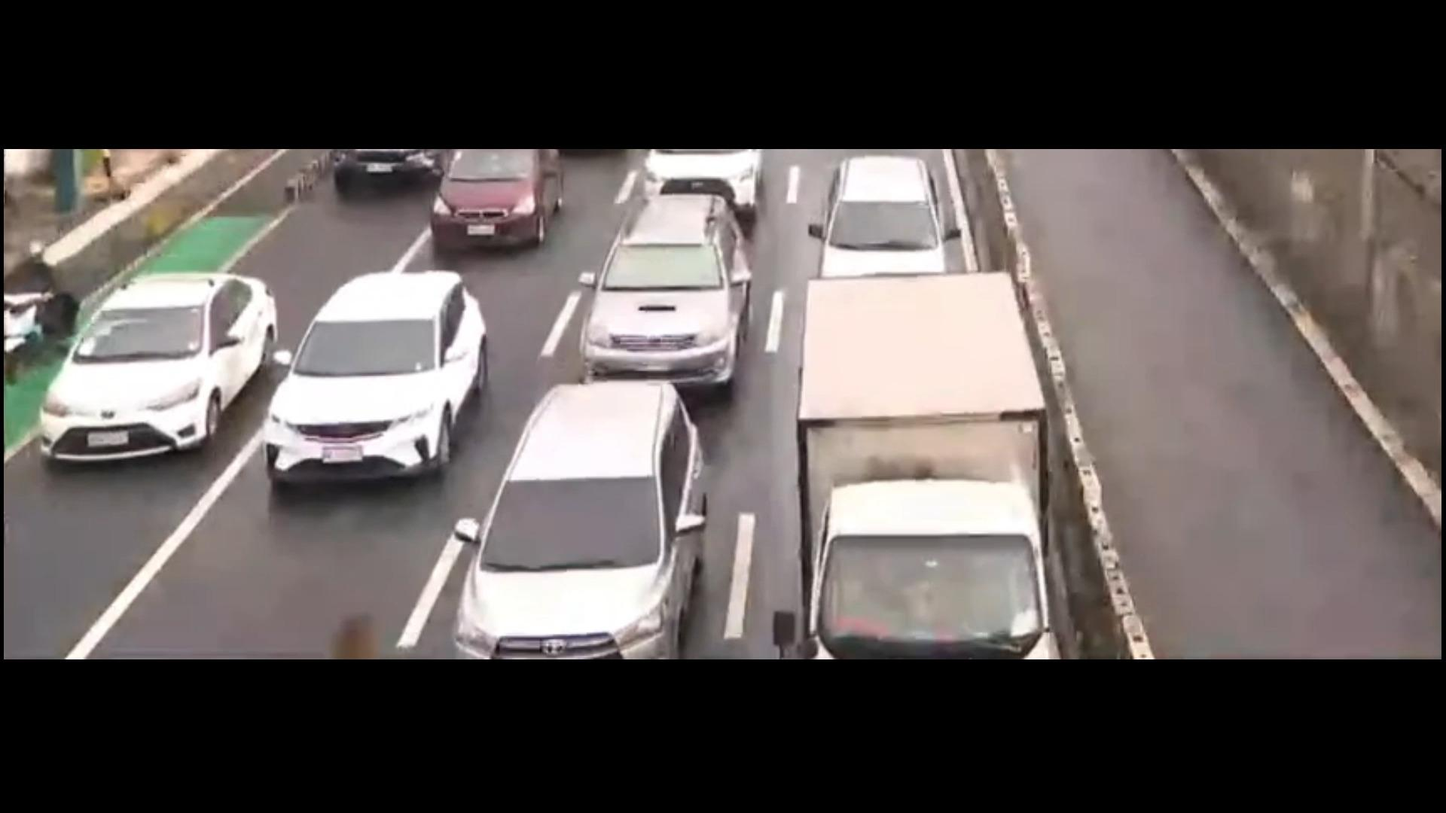Motorcycle: (0, 236, 83, 378)
SUV: (435, 384, 733, 658), (254, 260, 494, 496), (560, 196, 752, 410), (814, 155, 968, 295), (430, 142, 571, 253)
Sedan: (45, 239, 307, 480)
Truck: (756, 254, 1077, 663)
